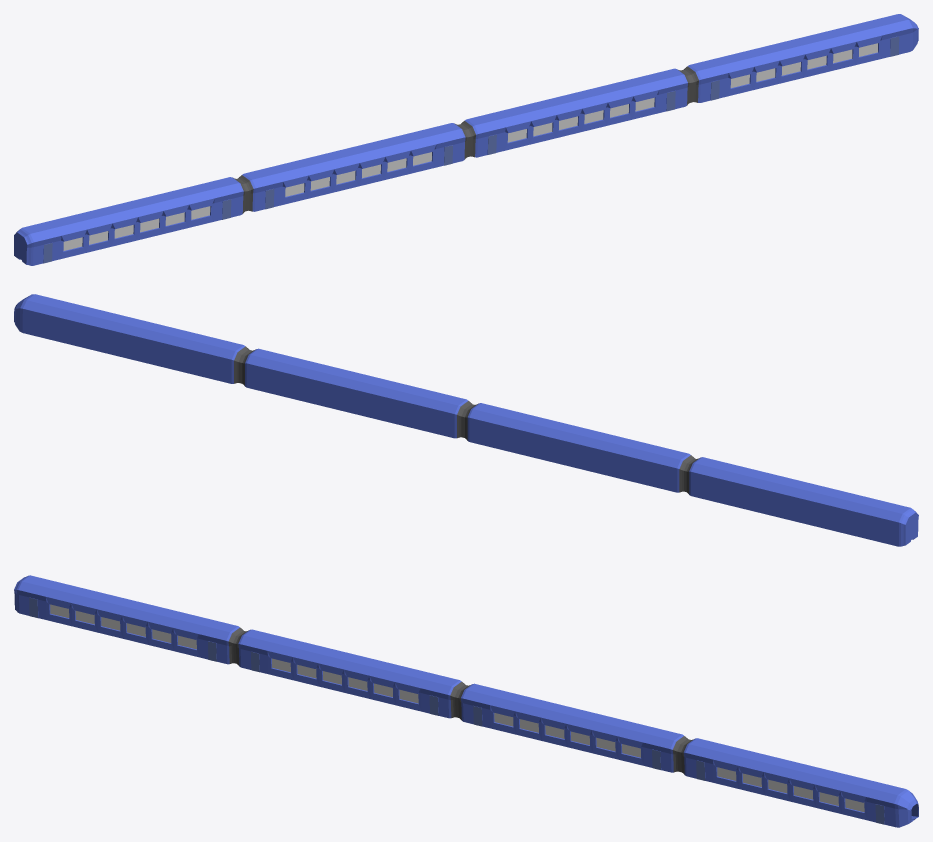
The model's file is Train.fbx.
3 renders of one model, top to bottom at view 1: azimuth 30°, elevation 25°; view 2: azimuth 150°, elevation 25°; view 3: azimuth 330°, elevation 25°, orthographic.
Parts seen in each view (by area): view 1: Train; view 2: Train; view 3: Train.
Boxes of the visible parts, x1,y1,x2,y2 form: Train: (14, 14, 918, 265); Train: (14, 294, 918, 546); Train: (14, 575, 918, 827).
Bounding box in the file's own units: 21797 × 704 × 665.
